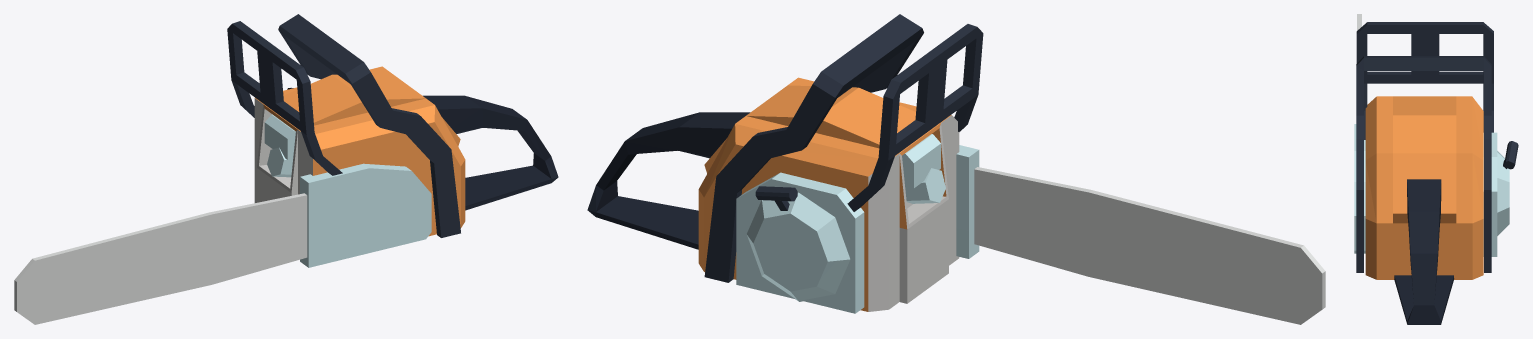
The model's file is chainsaw.glb.
3 views of the same model, side by side, from view 1: azimuth 30°, elevation 25°; view 2: azimuth 150°, elevation 25°; view 3: azimuth 270°, elevation 25° (orthographic). The views are drawn at different scales.
Visible parts, largest first — view 1: Box008_Material #32_0; view 2: Box008_Material #32_0; view 3: Box008_Material #32_0.
Boxes of the visible parts, box(x1,y1,x2,y2) form: Box008_Material #32_0: box(14, 14, 558, 324); Box008_Material #32_0: box(587, 14, 1325, 324); Box008_Material #32_0: box(1354, 14, 1518, 324).
Size of the model in its own units: 68.66 by 22.86 by 18.82.
1 material, 1 textured.
